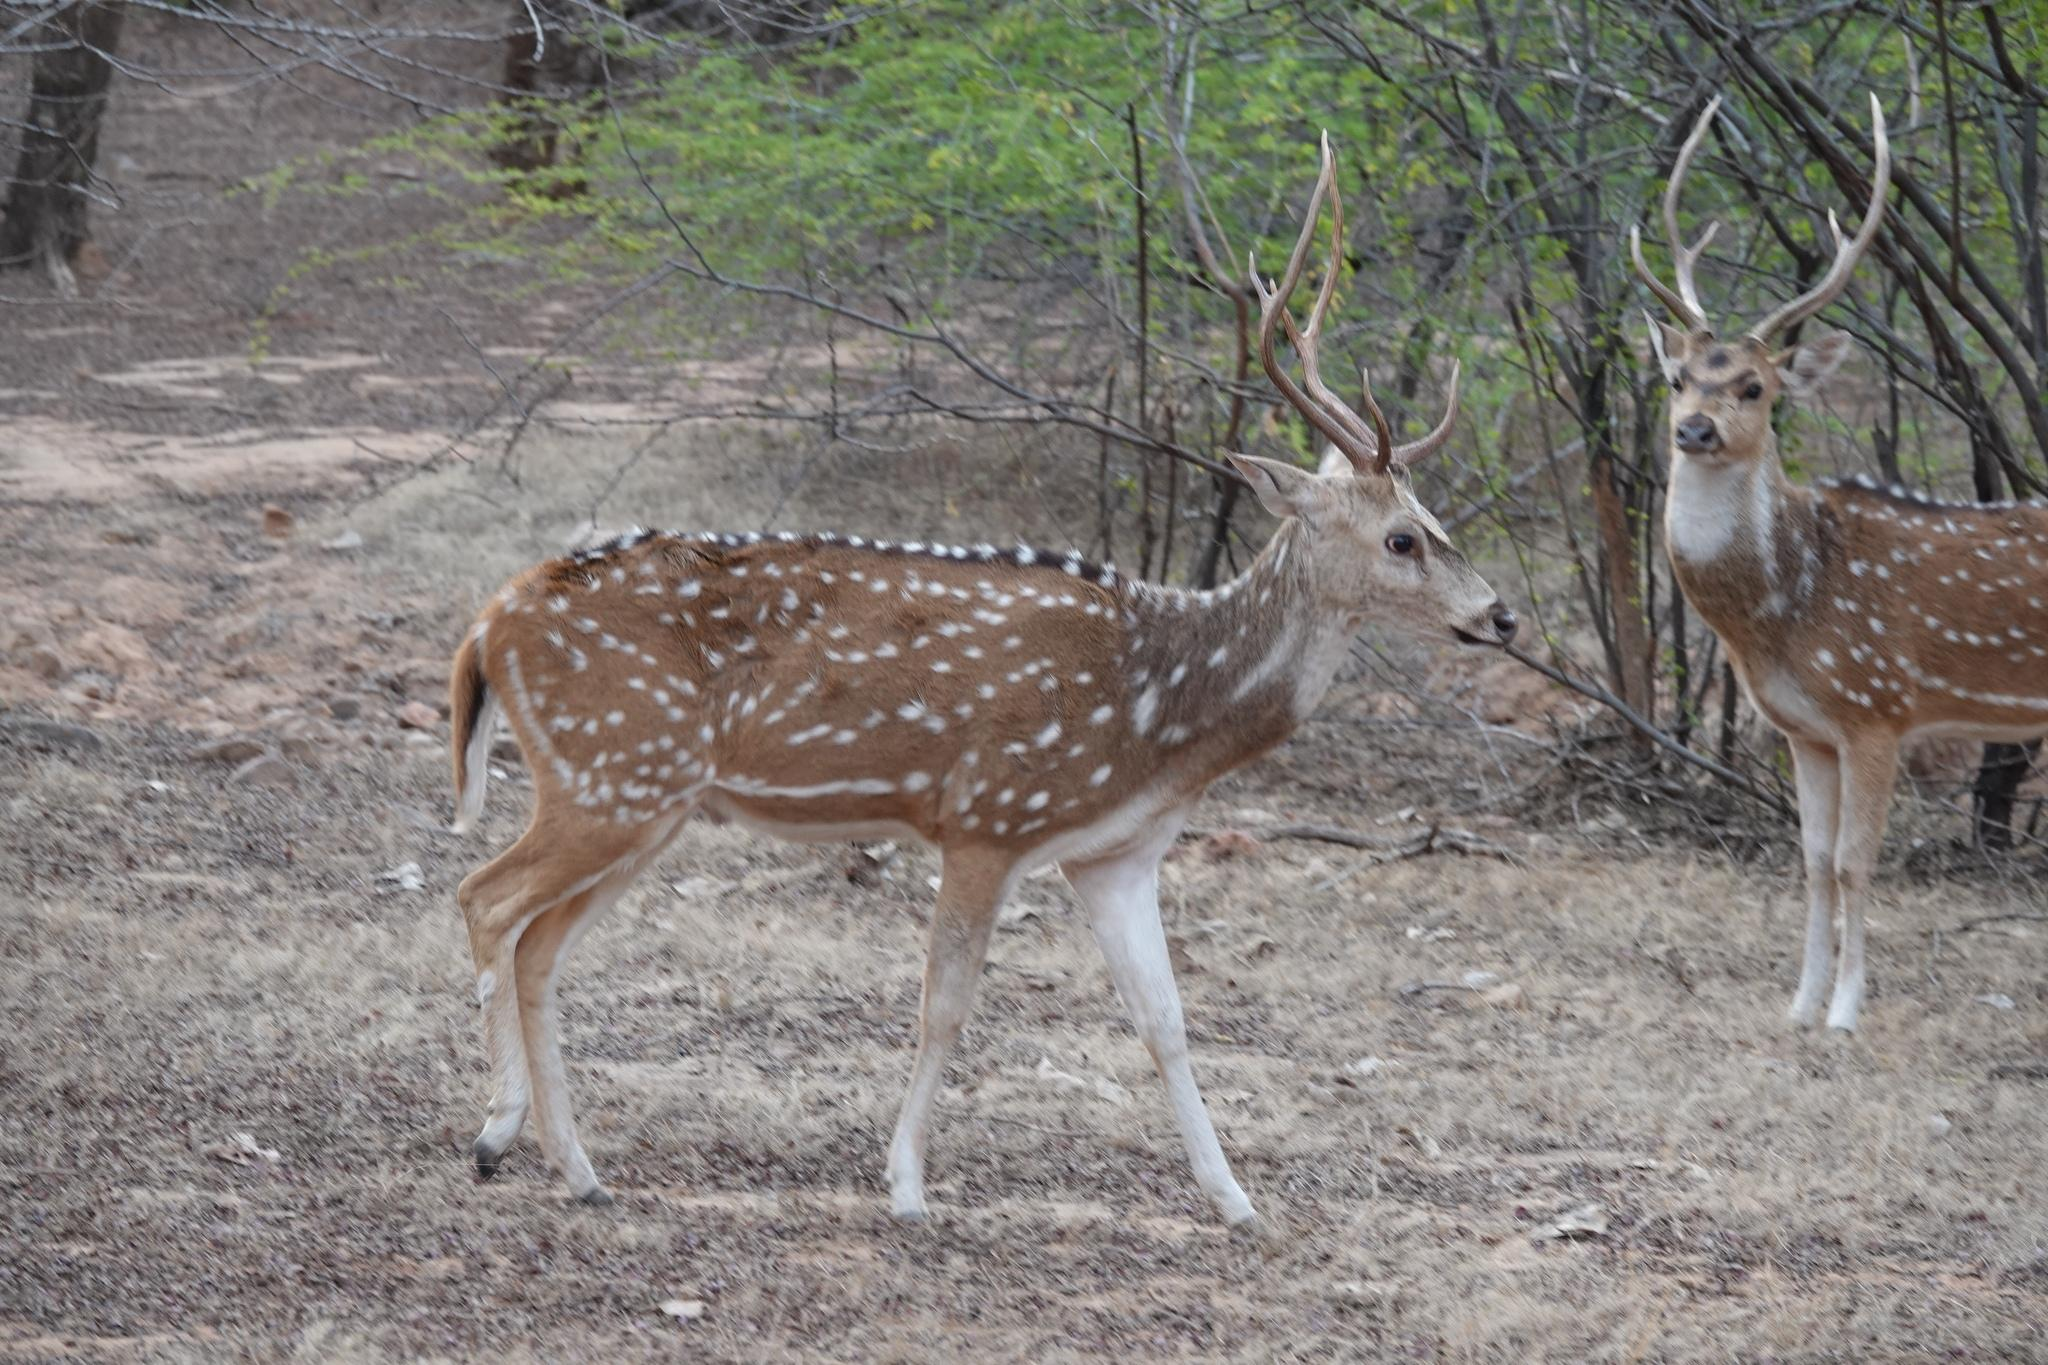Deer: (451, 139, 1517, 1223), (1631, 97, 2046, 1030)
